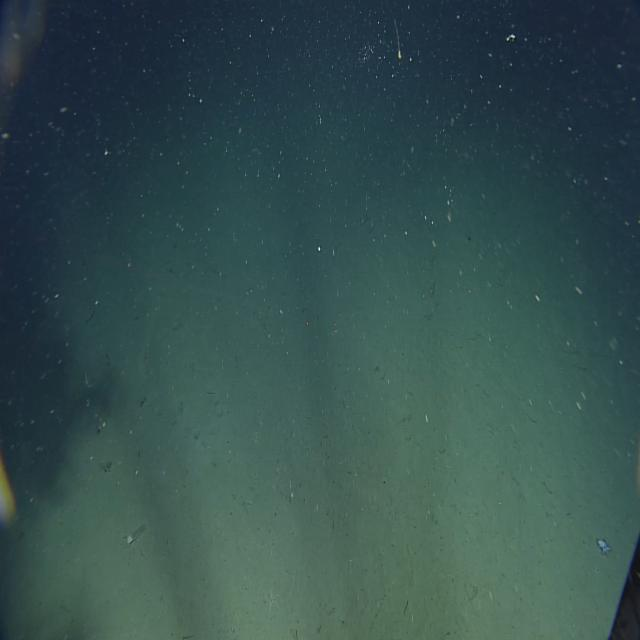Brittle Star: (264, 585, 280, 616)
Not Brittle Star: (118, 517, 153, 552), (594, 530, 614, 562), (80, 362, 98, 392)
